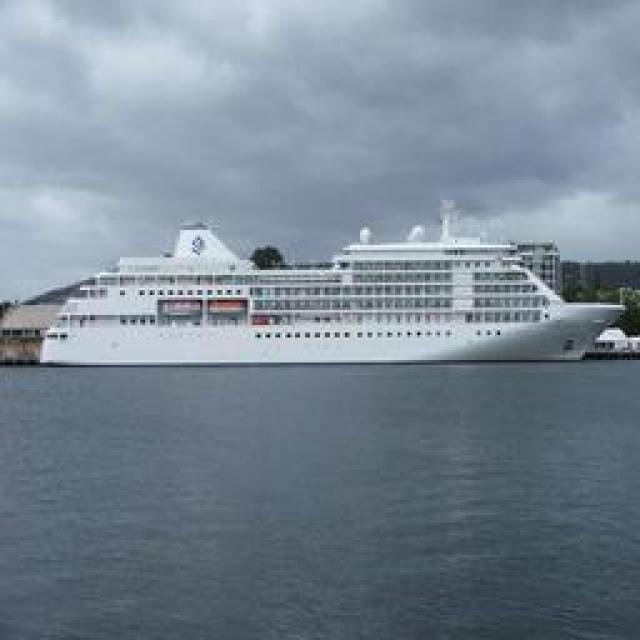Ship: (42, 237, 630, 367)
